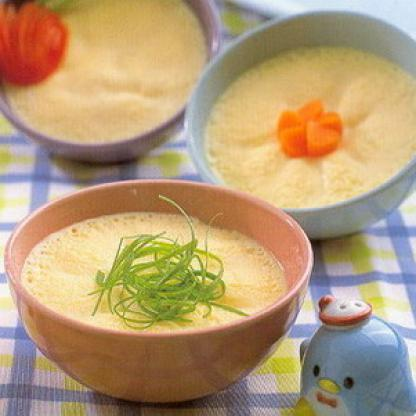Kaithoon: (15, 196, 303, 390), (192, 23, 415, 193), (3, 0, 214, 158)
